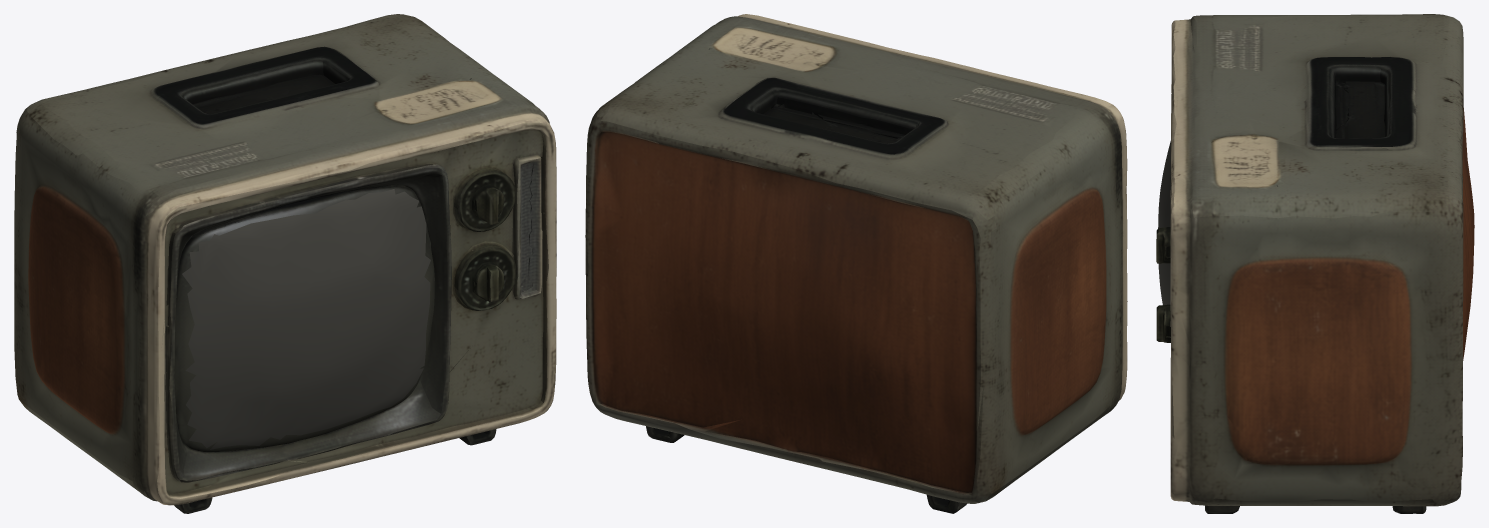
The model's file is ribbonfish.glb.
3 views of the same model, side by side, from view 1: azimuth 30°, elevation 25°; view 2: azimuth 150°, elevation 25°; view 3: azimuth 270°, elevation 25° (orthographic).
Parts seen in each view (by area): view 1: tv_shell, tv_screen; view 2: tv_shell; view 3: tv_shell, tv_screen.
Part boxes in pixels (x1,y1,x2,y2): tv_shell: (14, 14, 556, 513); tv_screen: (182, 189, 430, 449); tv_shell: (585, 14, 1127, 513); tv_shell: (1156, 14, 1474, 513); tv_screen: (1158, 141, 1170, 304).
Size of the model in its own units: 1 by 0.7721 by 0.6558.
Materials: 2 (1 with a texture image).
